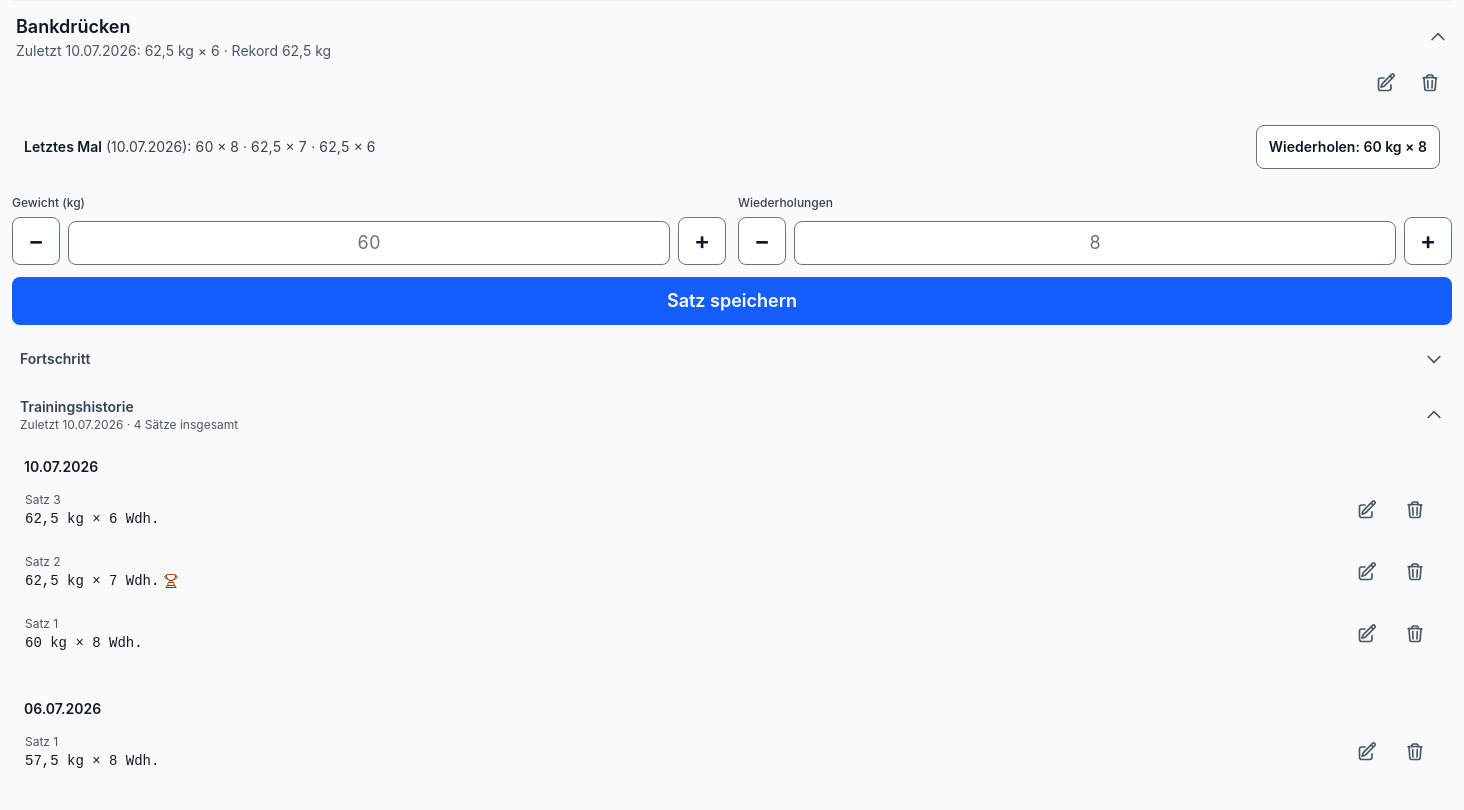
Test: last time, repeat and steppers › shows last time in workout order and repeats the set at the same position
The width and height of the screenshot is (1464, 810).
Click the button "Wiederholen: 60 kg × 8".
click(1348, 147)  # box [1256,125,1440,169]
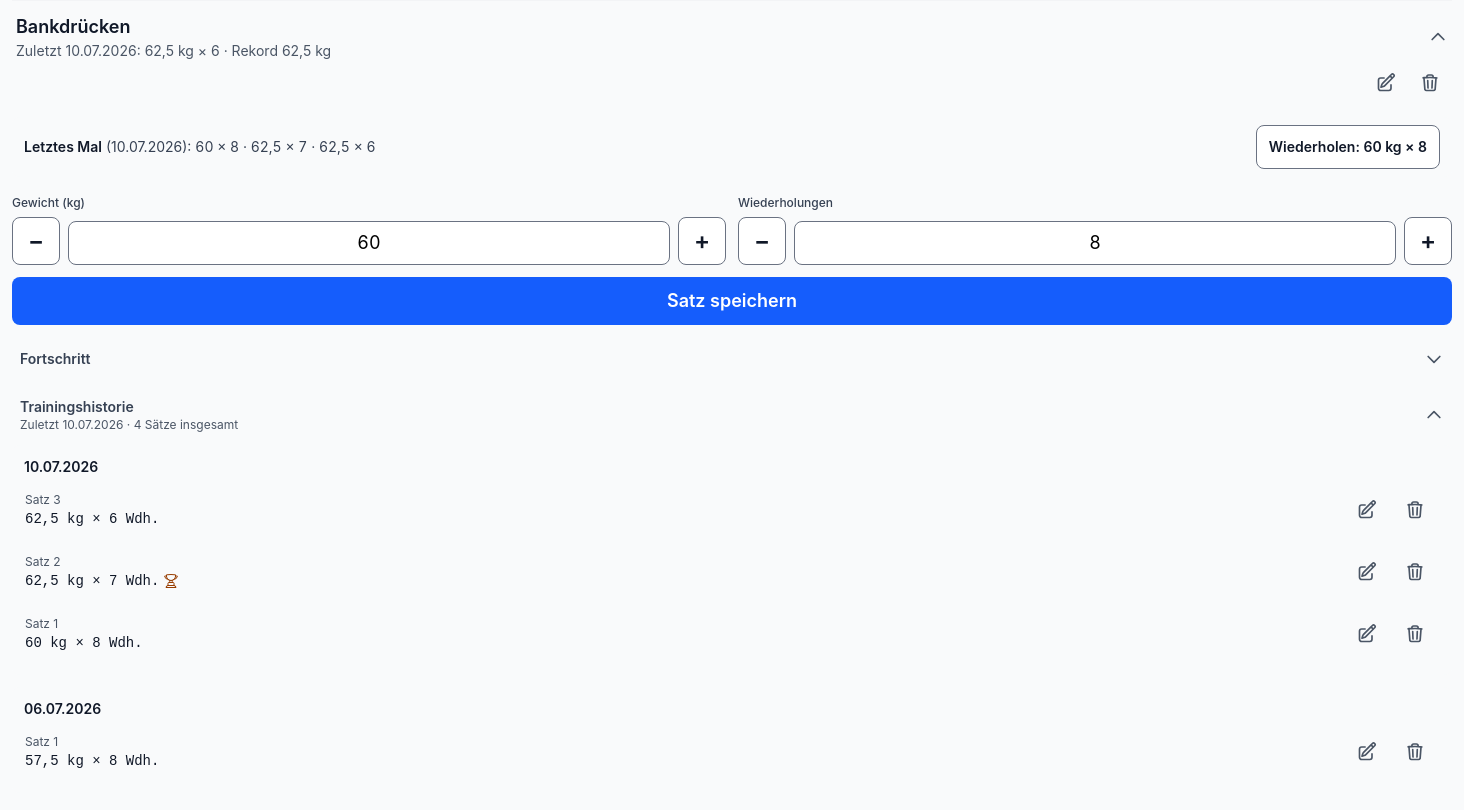
Expected: the field with id "weight-bench" holds "60", [68,221,670,265]
Expected: the field with id "reps-bench" holds "8", [794,221,1396,265]
Submit the form, box [12,189,1452,325]
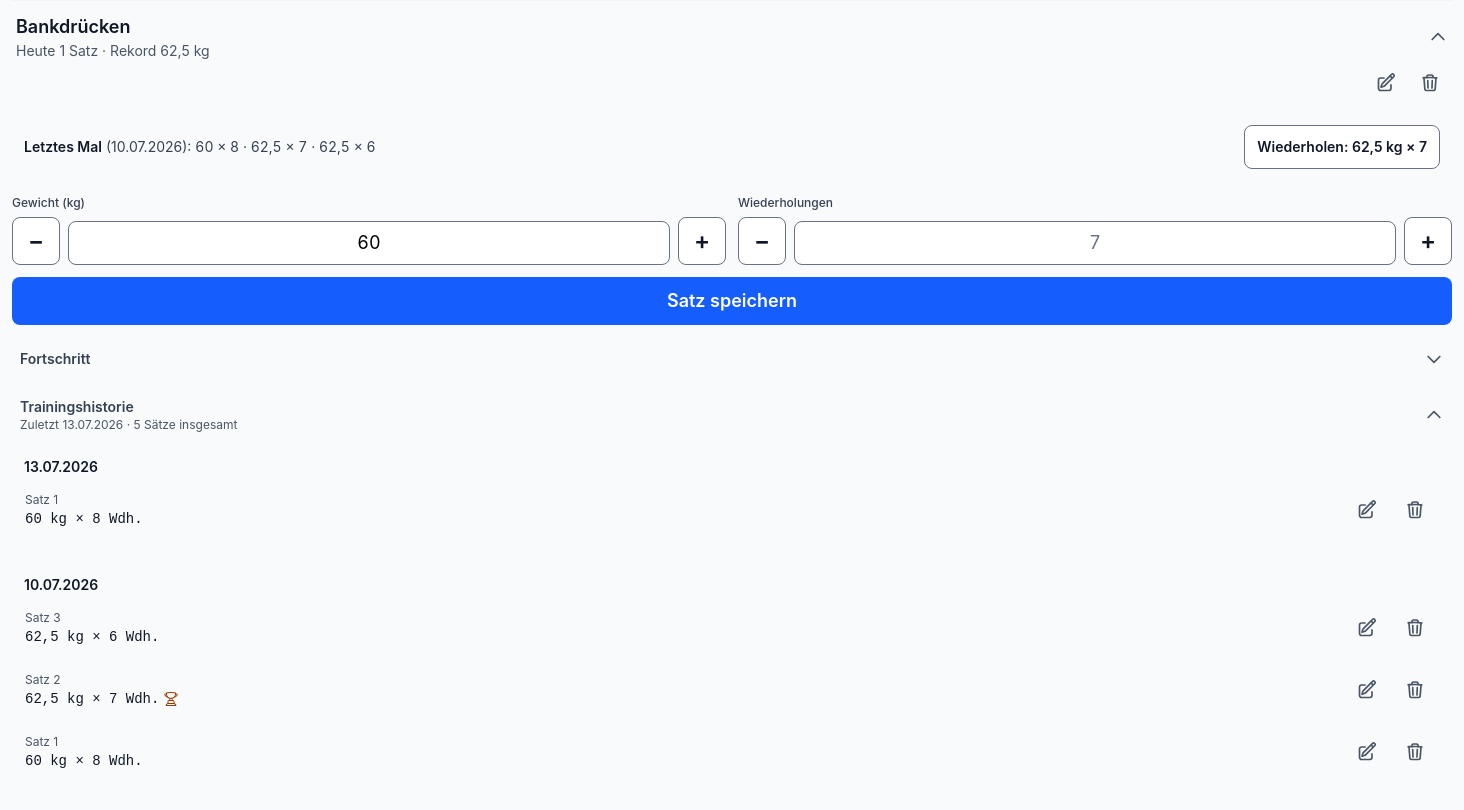
Expected: the button "Wiederholen: 62,5 kg × 7" is shown, [1244,125,1440,169]
